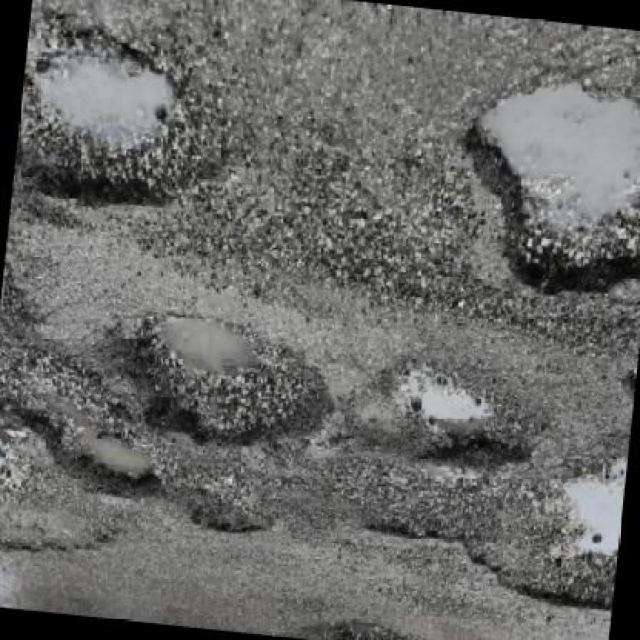pothole: (10, 21, 253, 234), (442, 69, 638, 314), (350, 455, 624, 617), (107, 299, 338, 464), (0, 322, 171, 508), (339, 349, 550, 480), (0, 494, 120, 569), (176, 483, 276, 545)
